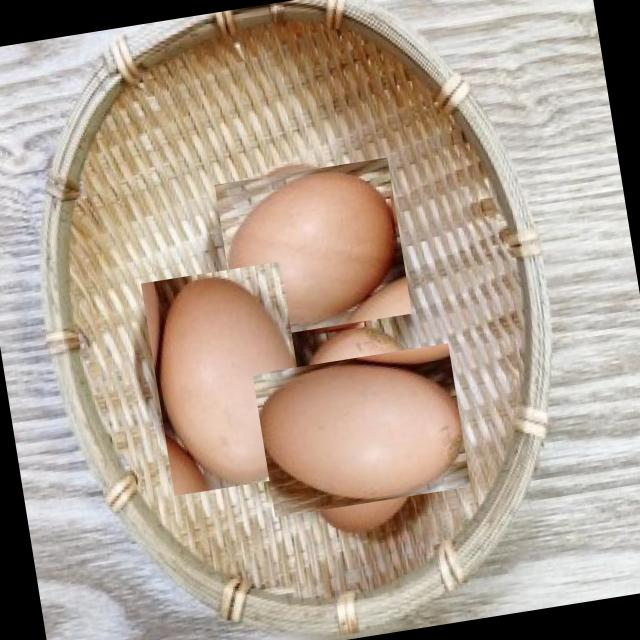eggs: (141, 260, 315, 497), (263, 332, 460, 528), (218, 153, 410, 344)
